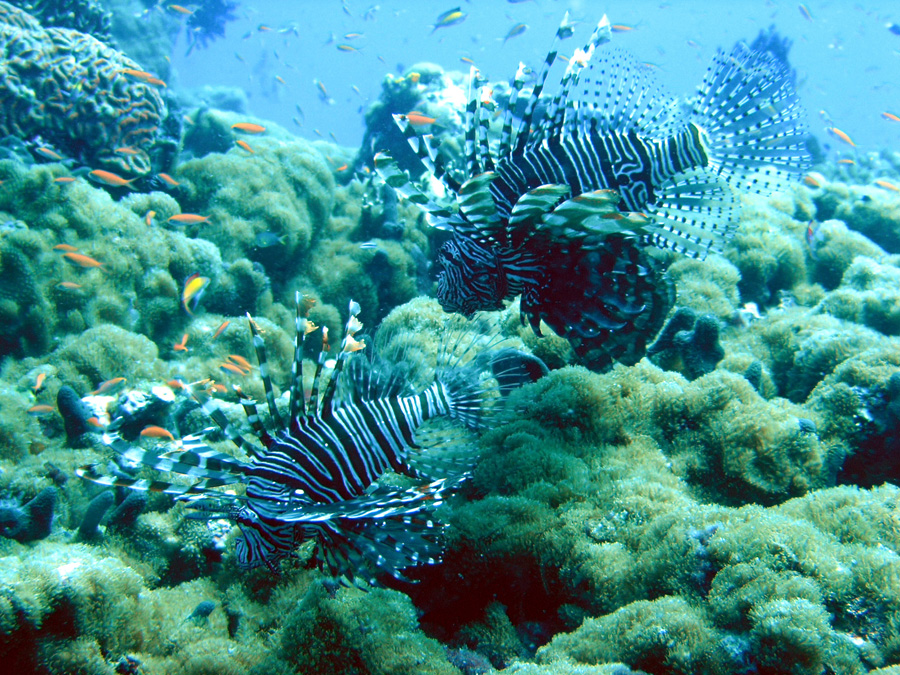Pterois_volitans: (410, 53, 827, 392), (169, 310, 510, 599)
